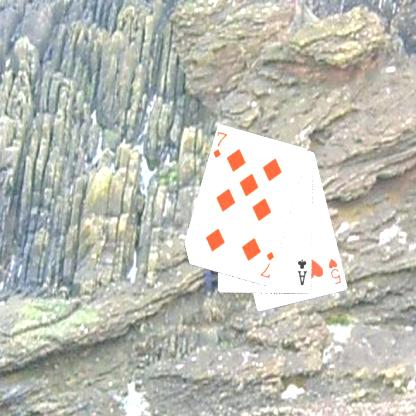5H: (326, 255, 342, 286)
7D: (257, 248, 276, 280), (210, 129, 229, 160)
AC: (295, 257, 309, 287)
